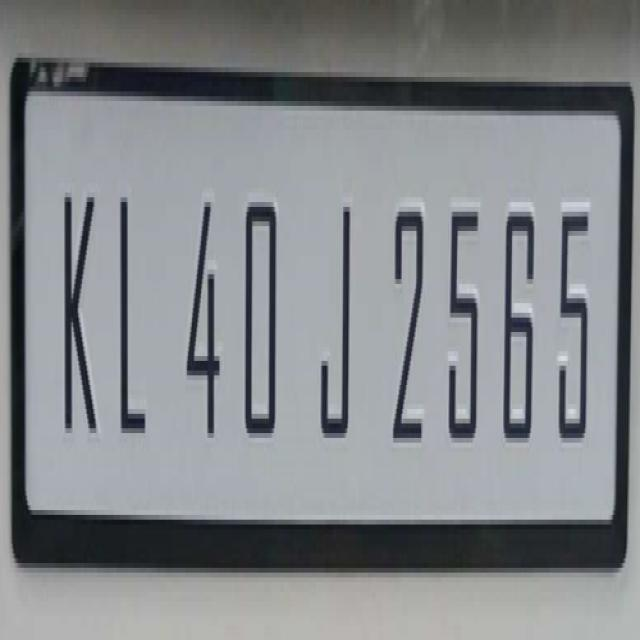0: (238, 186, 284, 459)
4: (183, 188, 223, 455)
5: (554, 193, 598, 465), (445, 198, 486, 462)
6: (500, 171, 546, 482)
J: (311, 166, 358, 457)
K: (56, 178, 103, 462)
L: (111, 154, 151, 470)
